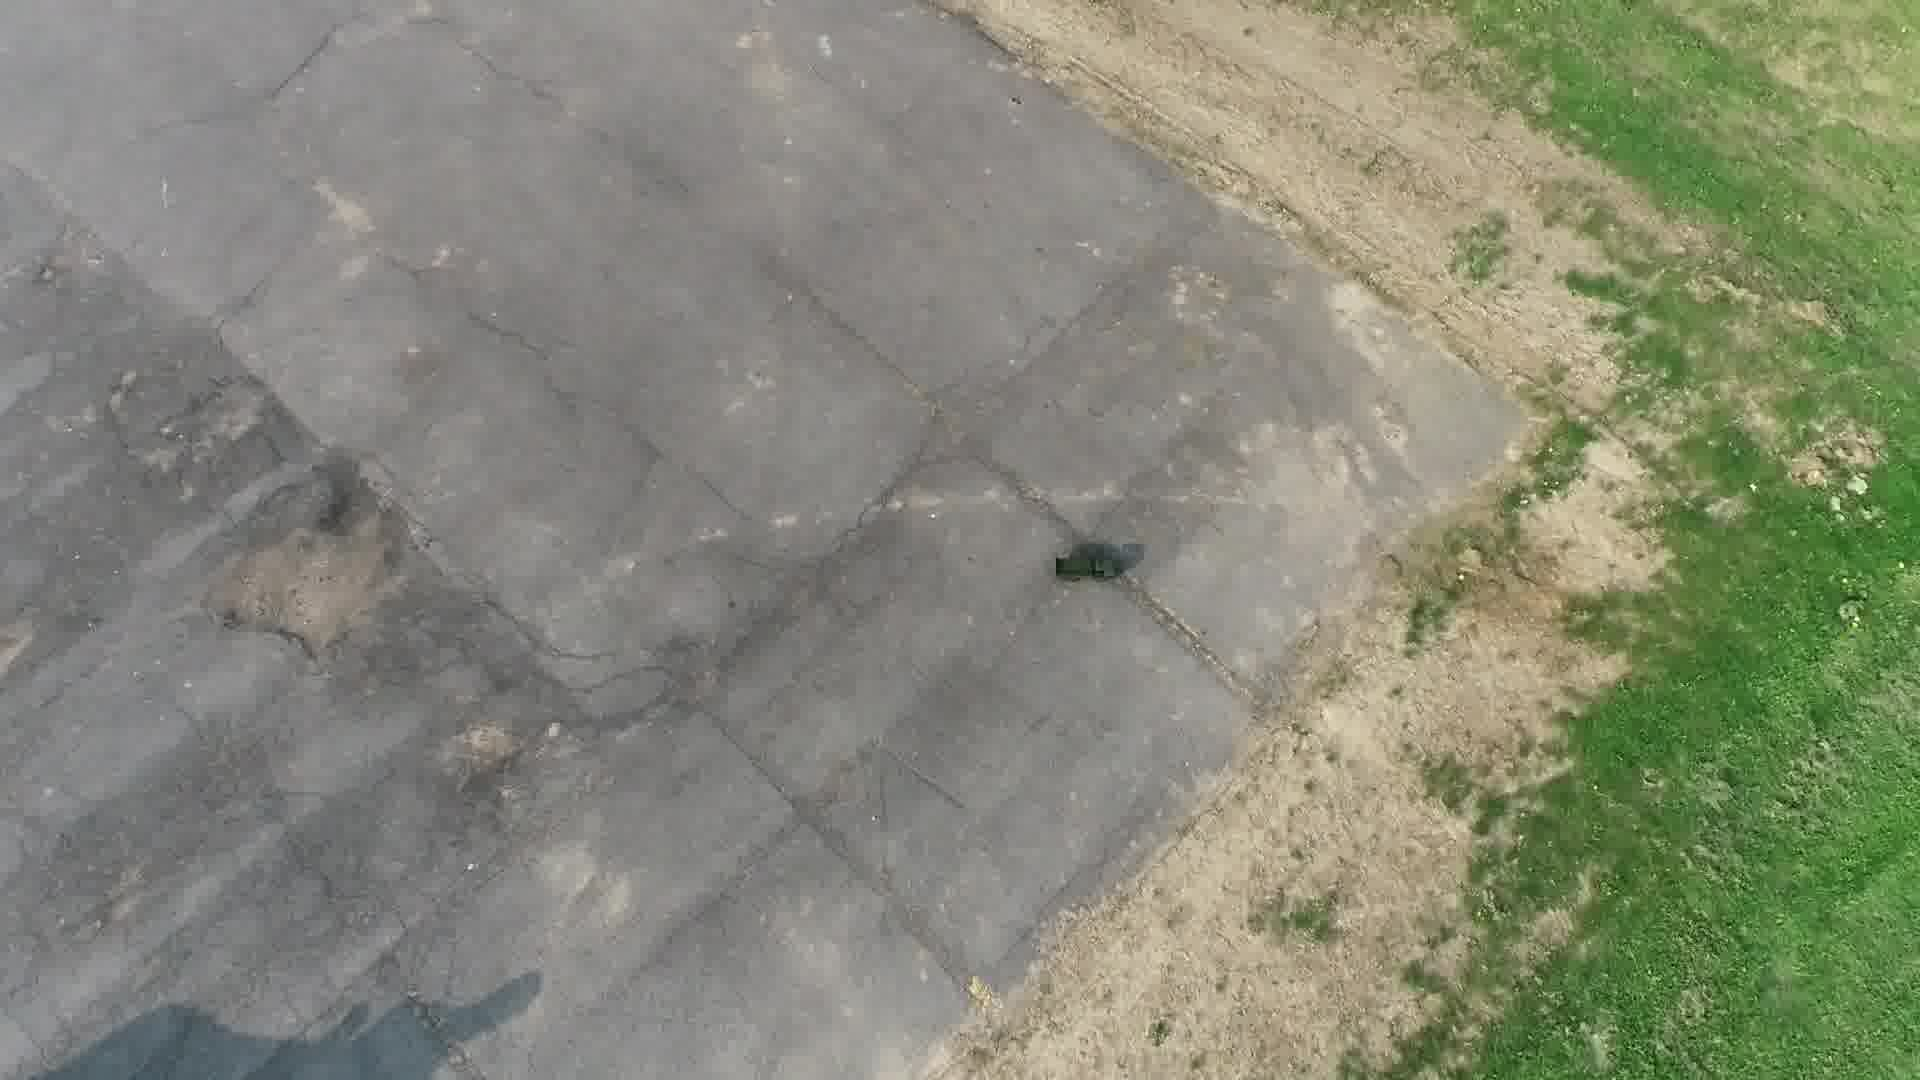transporter9: (1051, 553, 1121, 588)
